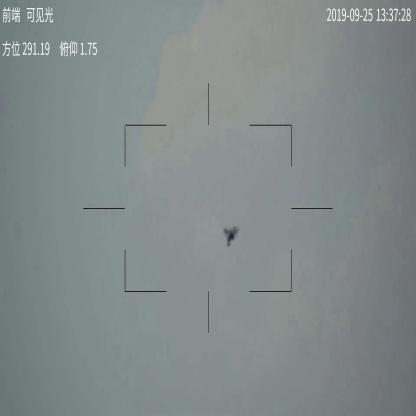uav: (222, 224, 238, 248)
